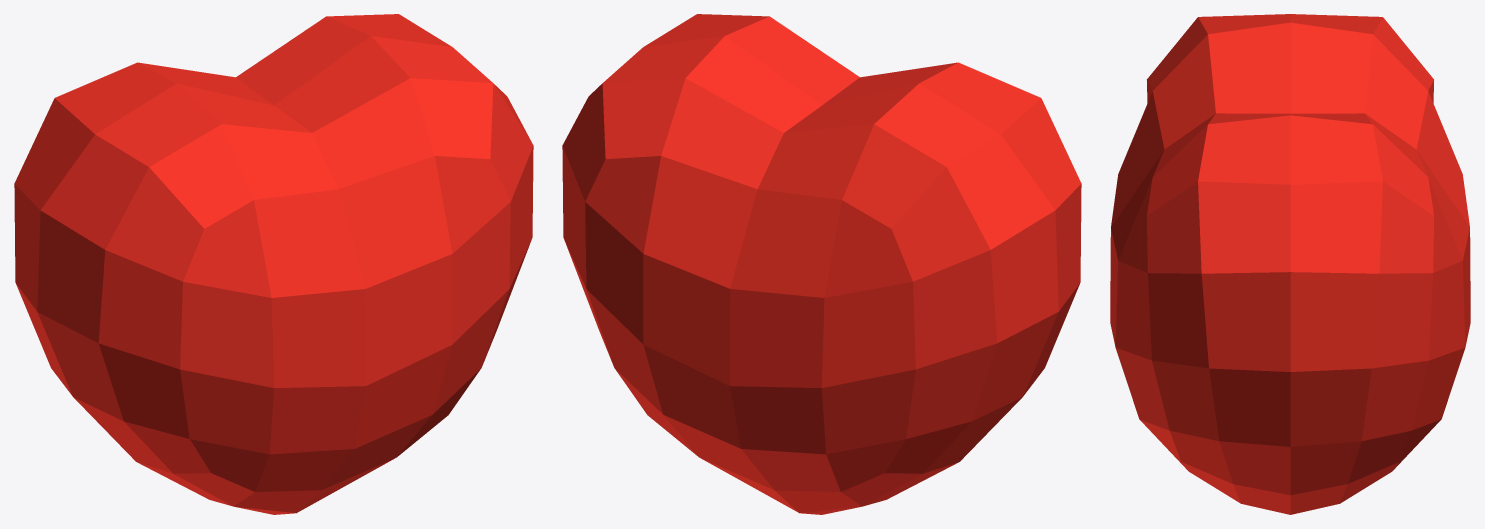
File: heart.fbx
3 views of the same model, side by side, from view 1: azimuth 30°, elevation 25°; view 2: azimuth 150°, elevation 25°; view 3: azimuth 270°, elevation 25° (orthographic). The views are drawn at different scales.
Parts seen in each view (by area): view 1: Heart; view 2: Heart; view 3: Heart.
Boxes of the visible parts, left/top/right/bottom form: Heart: left=14, top=14, right=533, bottom=514; Heart: left=562, top=14, right=1081, bottom=514; Heart: left=1110, top=14, right=1470, bottom=514.
Bounding box in the file's own units: 53.18 × 35.86 × 48.87.
